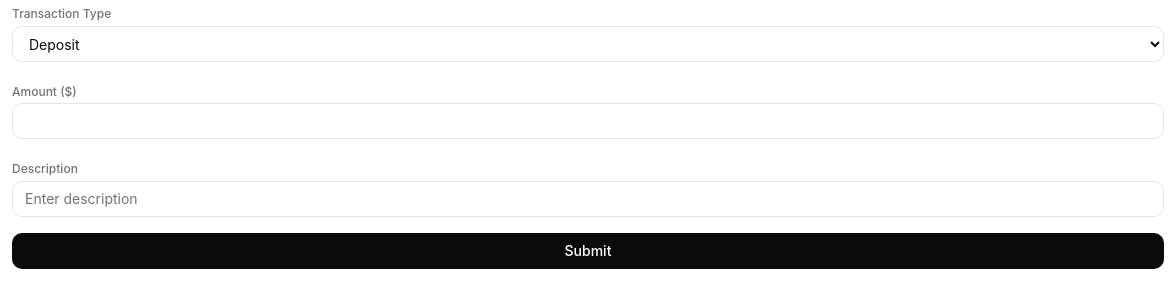
Scenario: TransactionForm › validates insufficient funds for withdrawal
Select "Withdrawal" in the dropdown labelled "Transaction Type" at point(588, 44), box [12,26,1164,62]
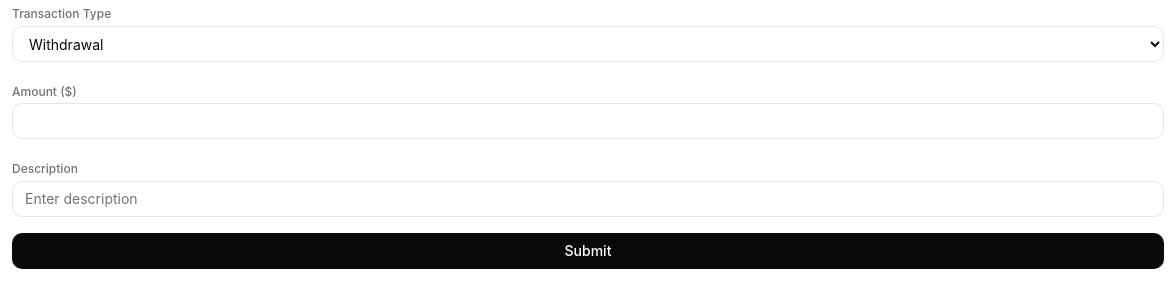
Type "2000" into the number field labelled "Amount ($)" at point(588, 121), box [12,103,1164,139]
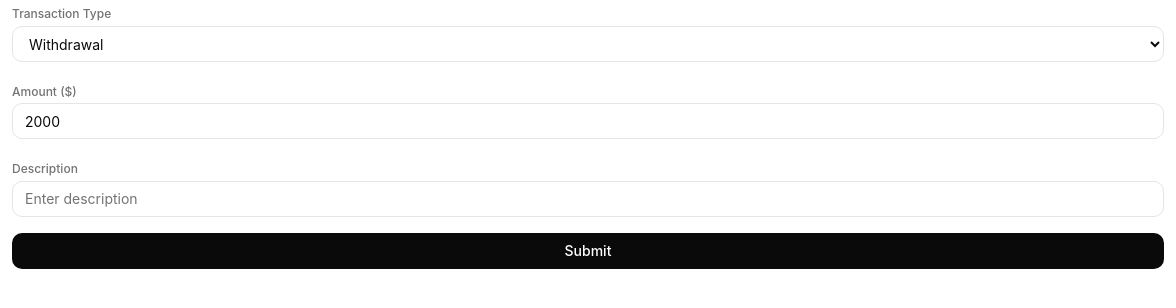
Type "Test withdrawal" into the field labelled "Description" at point(588, 199), box [12,181,1164,217]
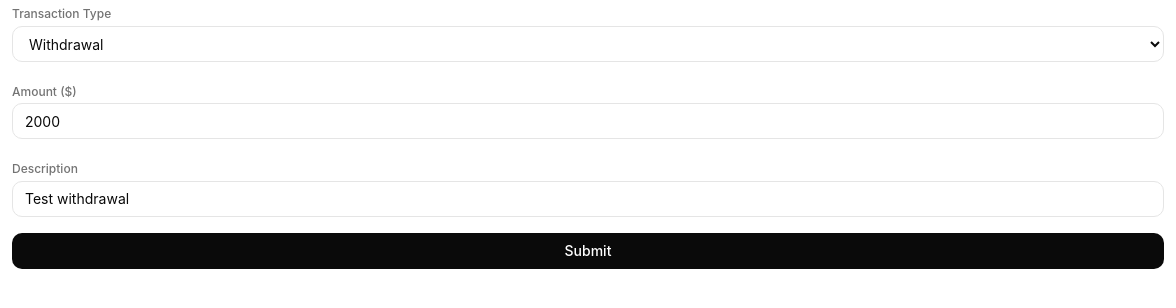
Click the button "Submit" at point(588, 251), box [12,233,1164,269]
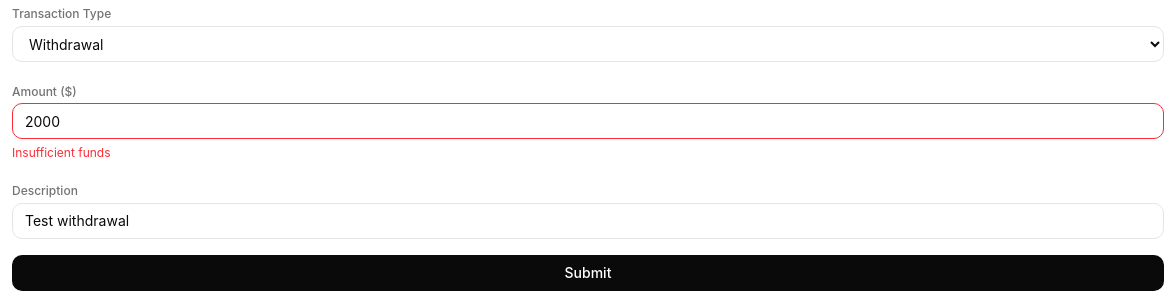
Expected: the text "Insufficient funds" is shown, [12,145,110,160]
